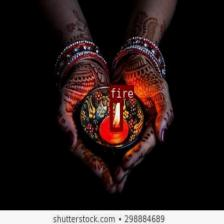fire: (110, 98, 122, 131)
